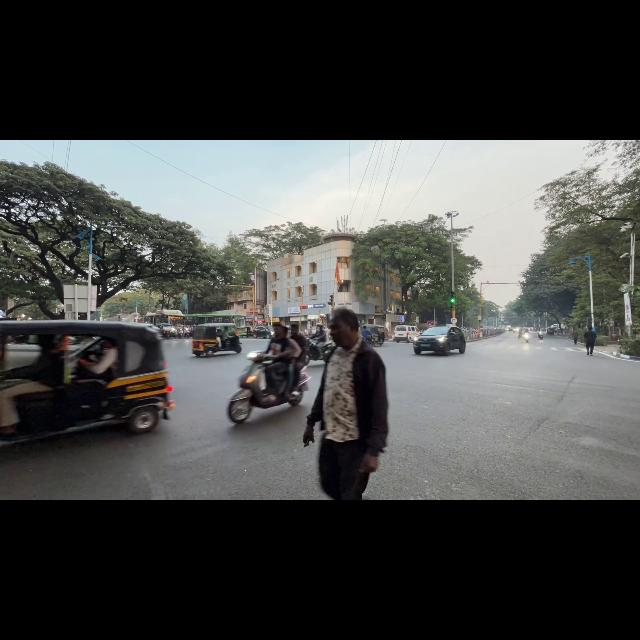bus: (185, 314, 247, 327), (144, 310, 185, 326)
car: (413, 326, 465, 355), (394, 325, 419, 342), (253, 326, 273, 338)
motorcycle: (228, 352, 310, 423), (305, 339, 334, 363), (523, 333, 529, 342), (538, 332, 543, 339)
